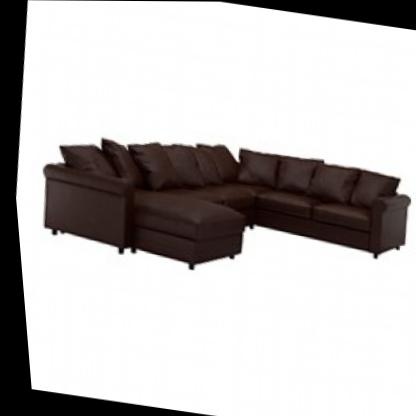Sofa: (19, 100, 416, 307)
